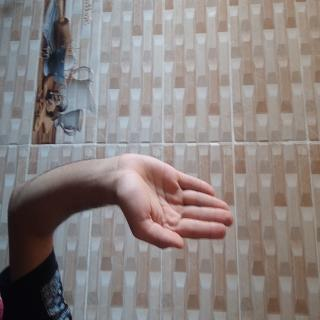SEEN: (110, 107, 192, 285)
